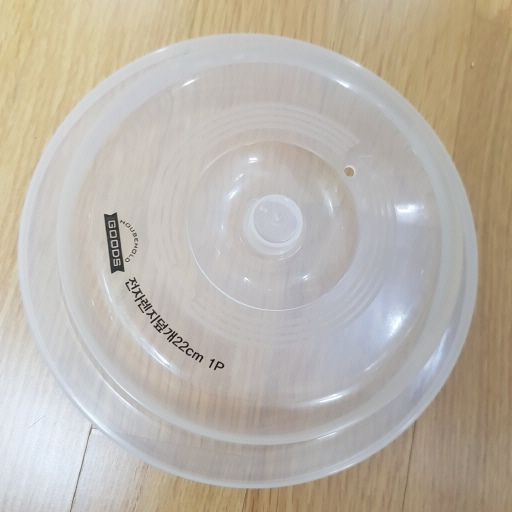Plastic_5: (17, 32, 481, 492)
